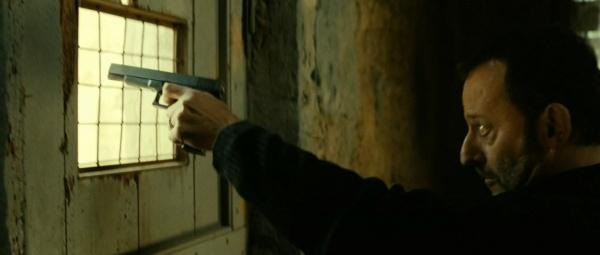Gun: (106, 63, 223, 156)
